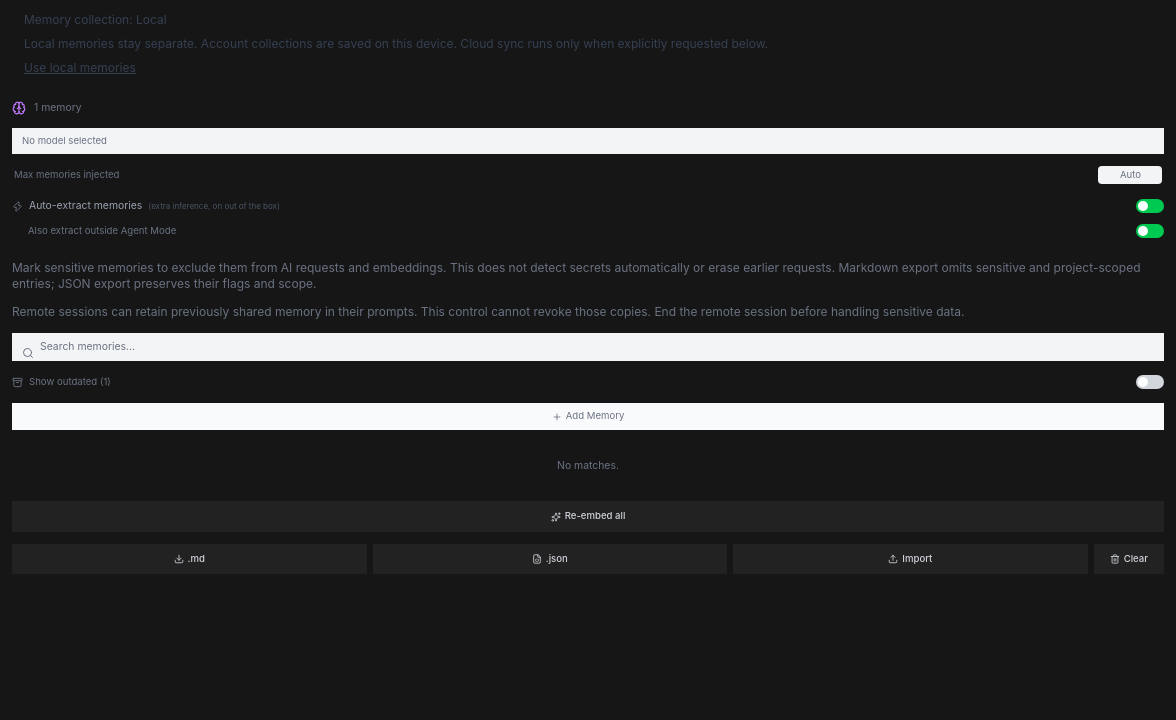
das Erinnerungsformular › HAUPTFALL: ein veralteter Zwilling blockiert die Neuaufnahme nicht mehr
Click the button "Add Memory": (588,417) top-left (12, 403), bottom-right (1164, 430)
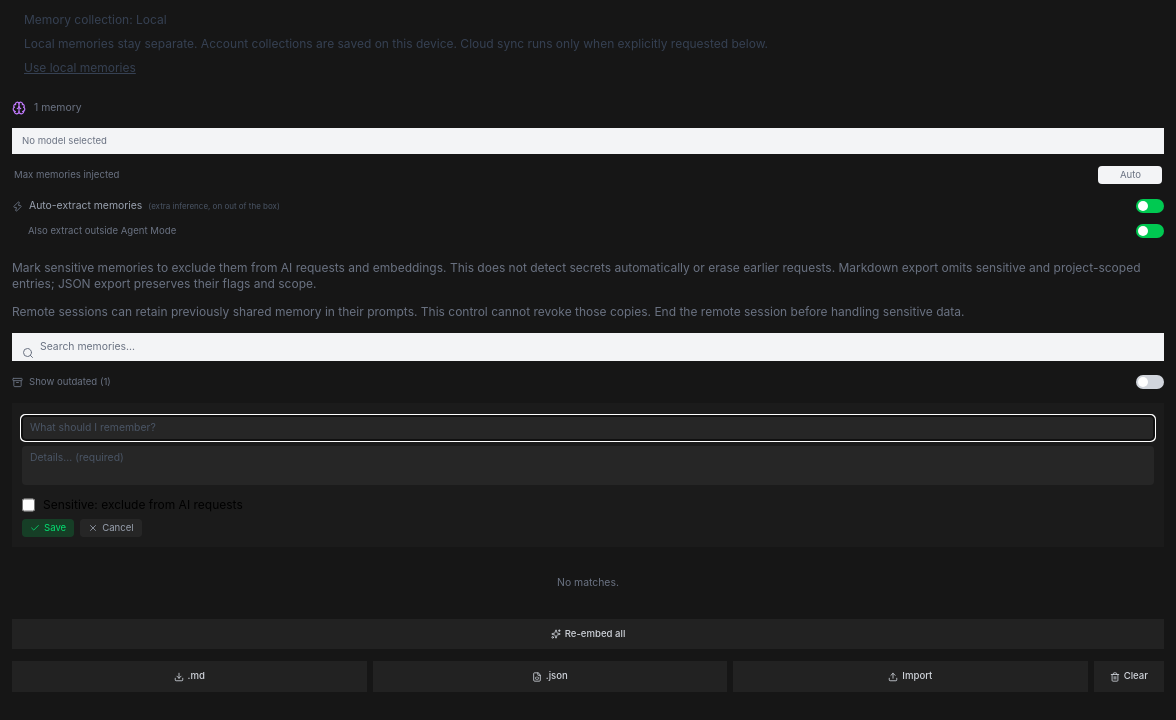
In the field with placeholder "What should I remember?": (588,428) top-left (22, 416), bottom-right (1154, 440), type "Arbeitet auf Deutsch"
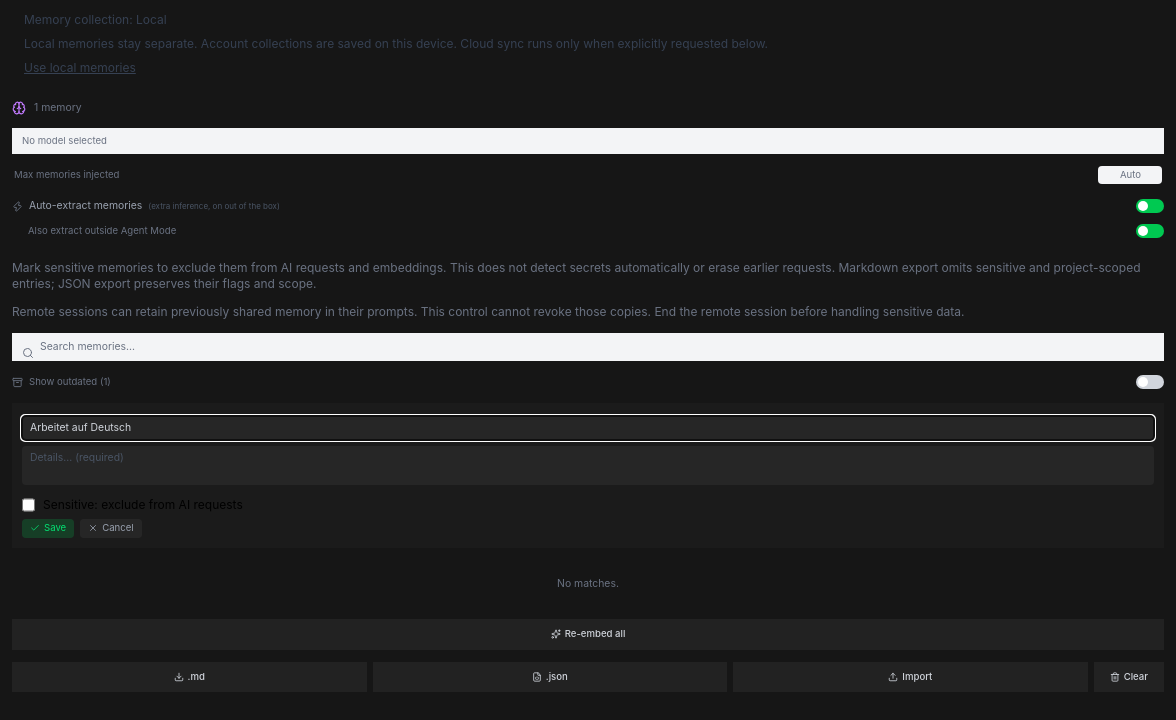
In the text box with placeholder "Details… (required)": (588,466) top-left (22, 446), bottom-right (1154, 485), type "Der Kunde schreibt auf Deutsch."
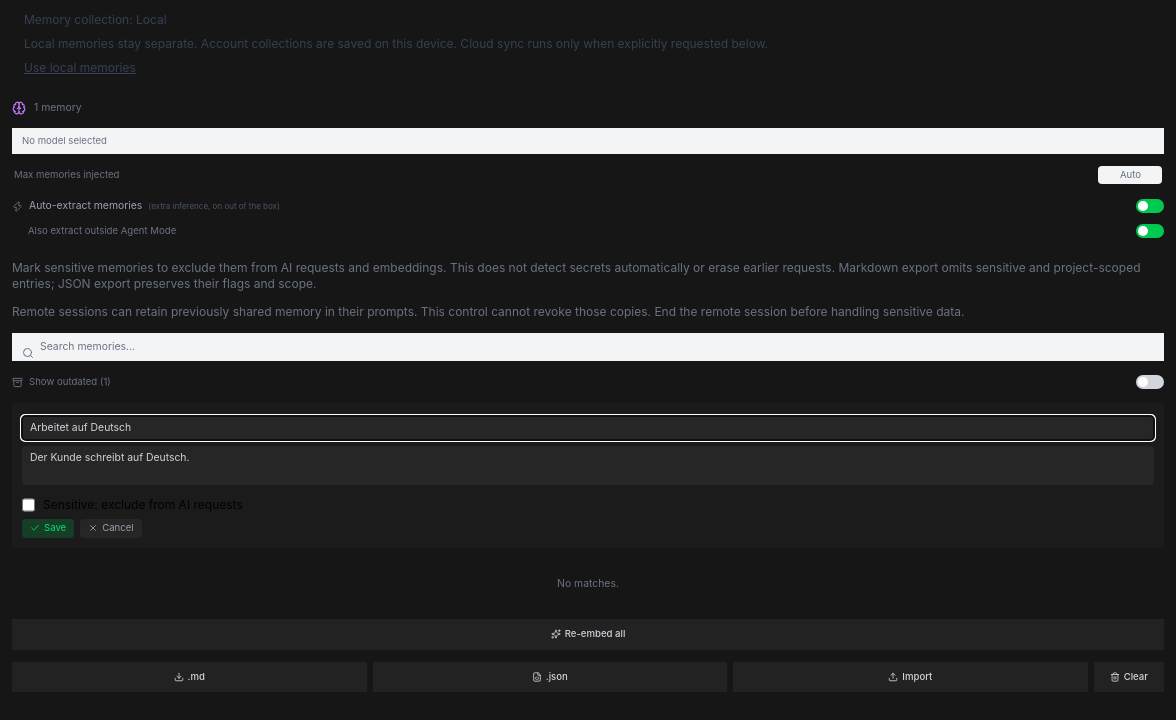
Click the button "Save": (48,528) top-left (22, 519), bottom-right (74, 538)
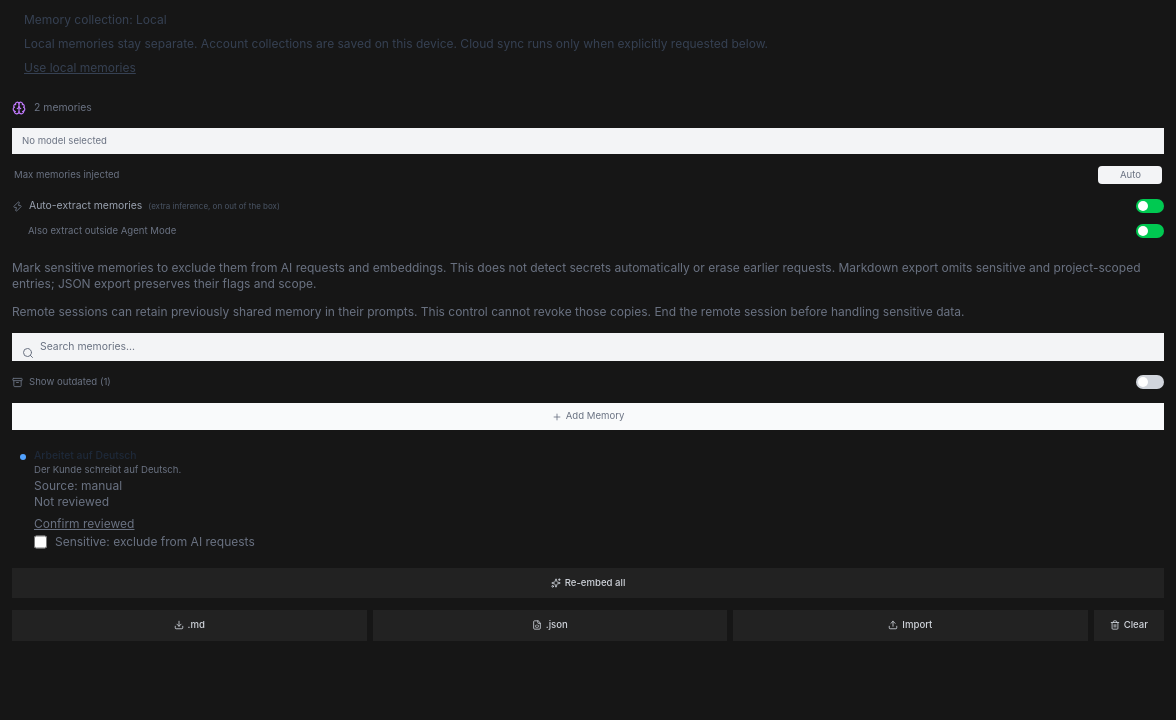
Expected: the text "Der Kunde schreibt auf Deutsch." is shown, top-left (34, 464), bottom-right (181, 475)
